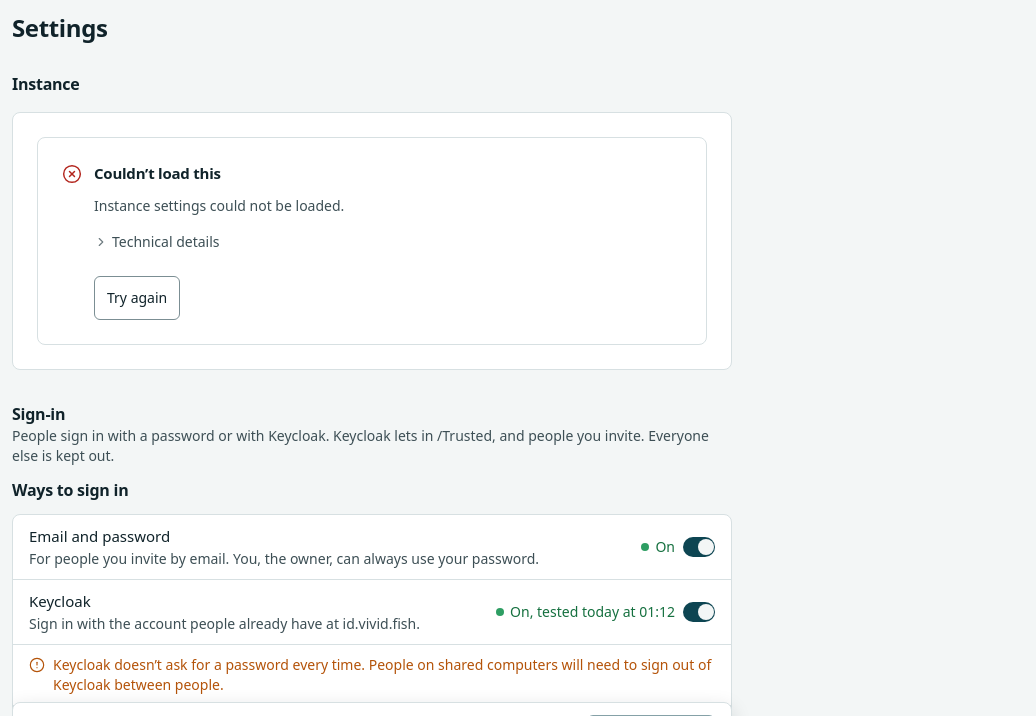
it: settings loading and failure › retries a failed load, then keeps the typed draft when a save fails
Click the button "Try again". click: (137,298)
box: [94,276,180,320]
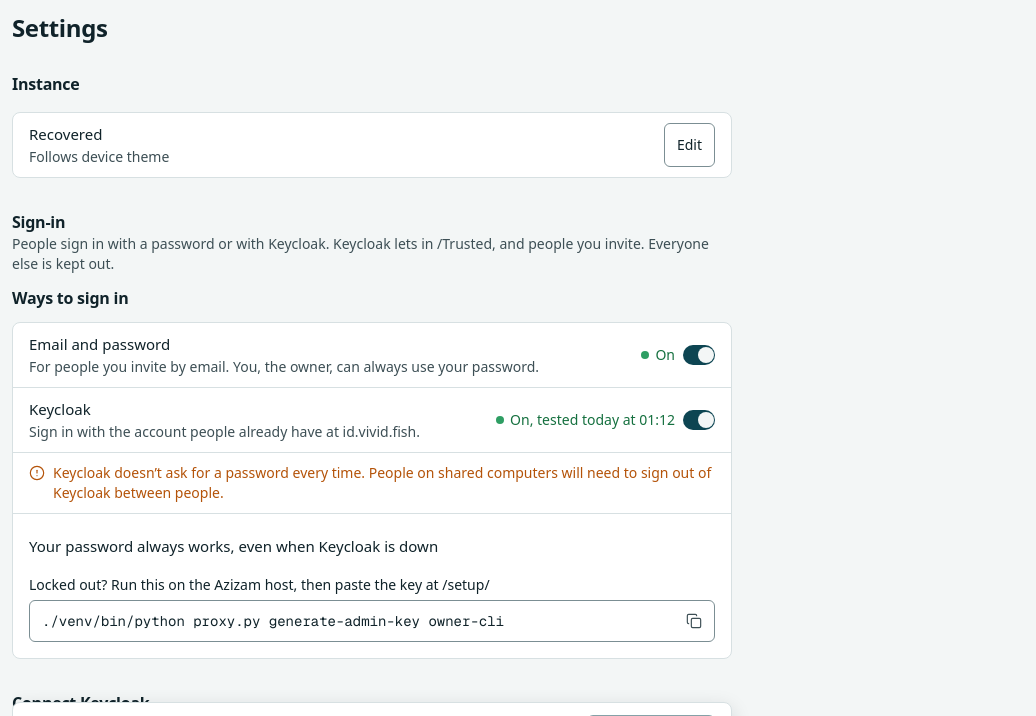
Click the button with aria-label "Edit Instance". click: (689,145)
box: [664,123,715,167]
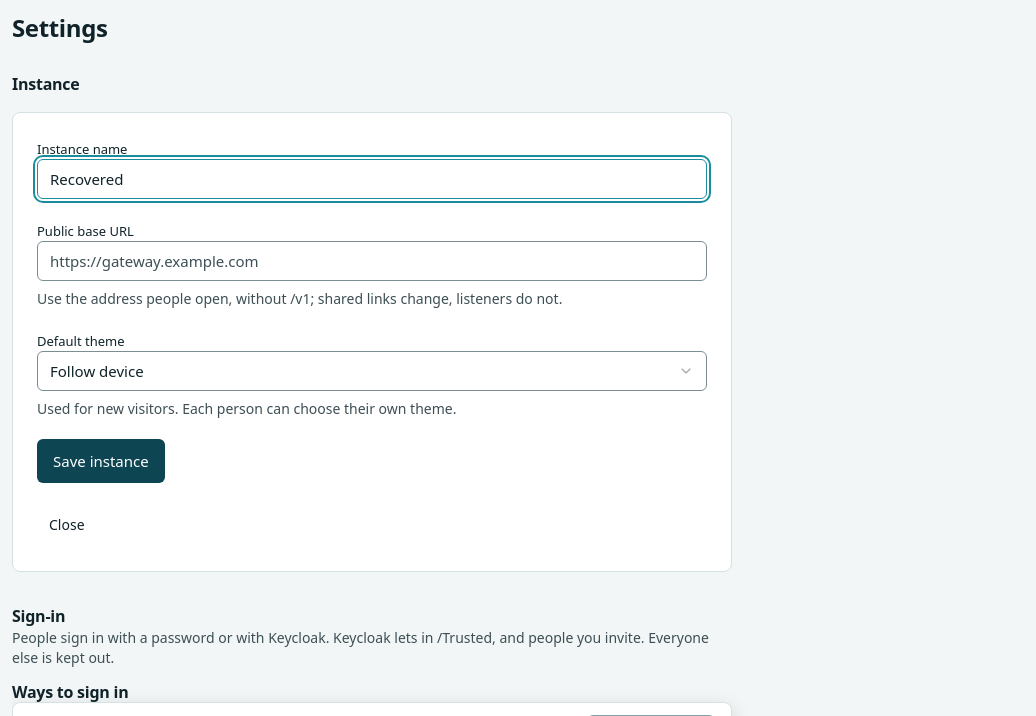
Expected: the field labelled "Instance name" holds "Recovered"
Replace the text in the field labelled "Instance name" with "Typed but not saved". click: (372,179)
box: [37,159,707,199]
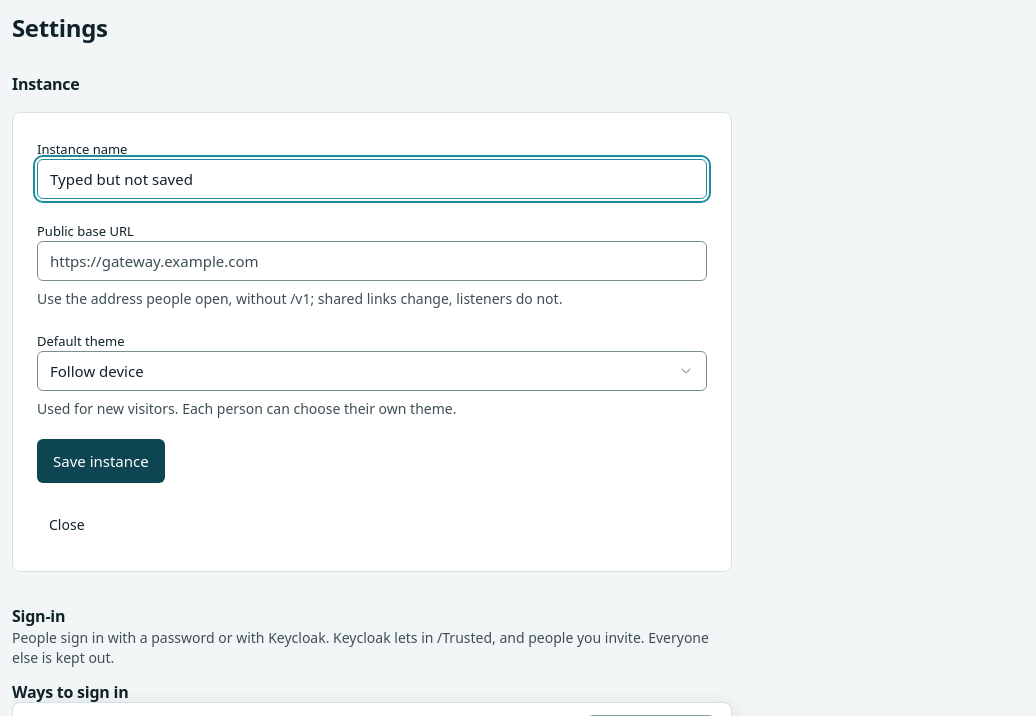
Click the button "Save instance". click: (101,461)
box: [37,439,165,483]
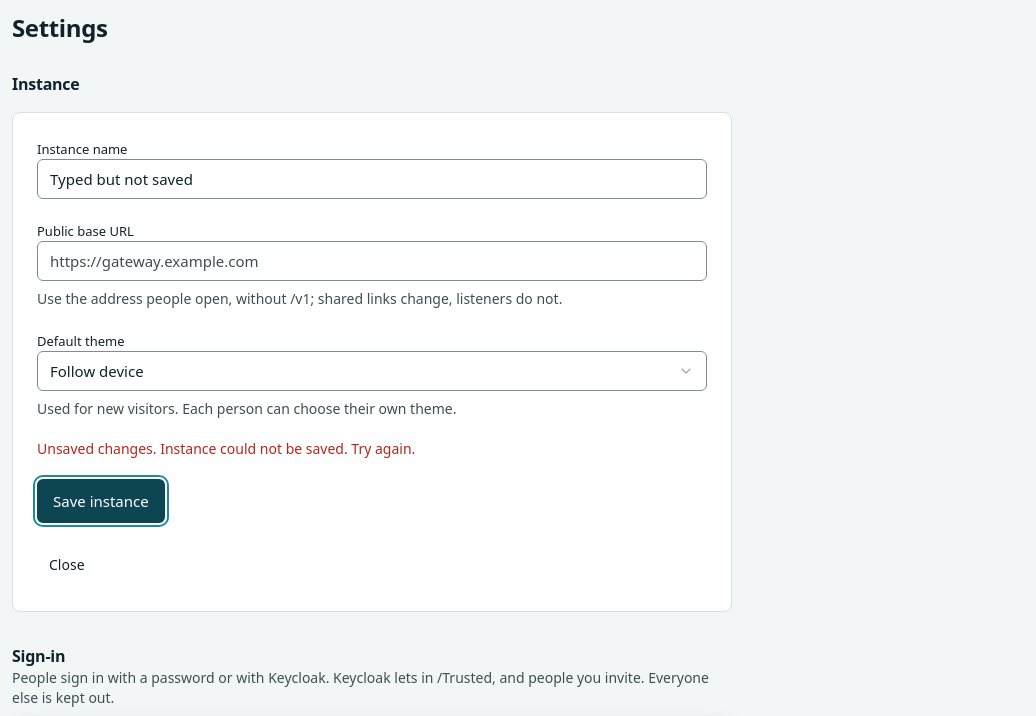
Expected: the message "Unsaved changes. Instance could not be saved. Try again." is shown, [37,439,415,458]
